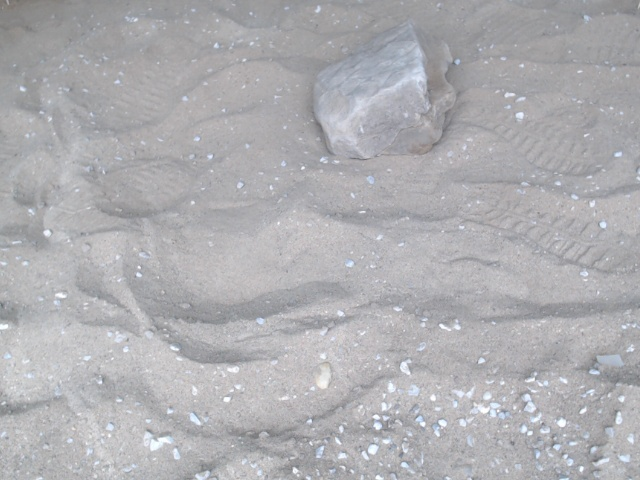rock: (302, 13, 465, 166)
